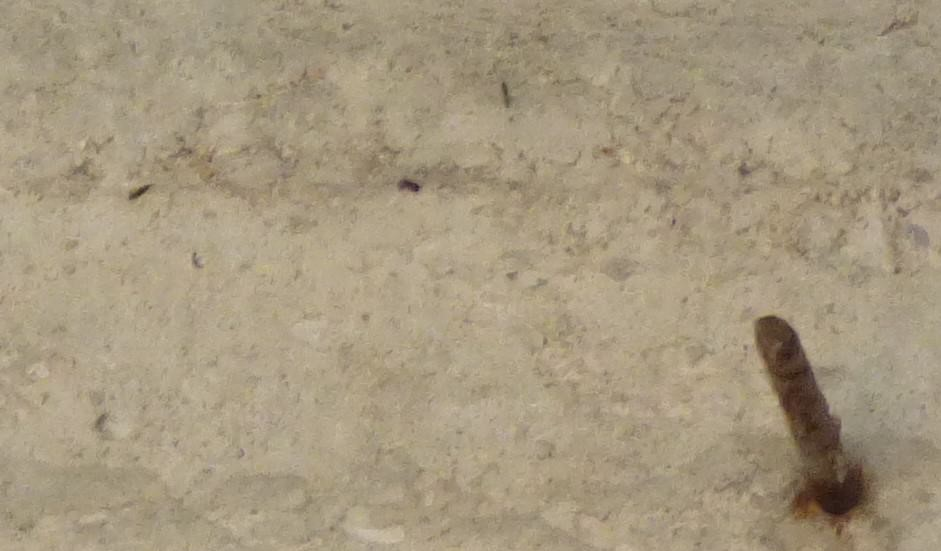Exposed reinforcement: (753, 315, 855, 513)
